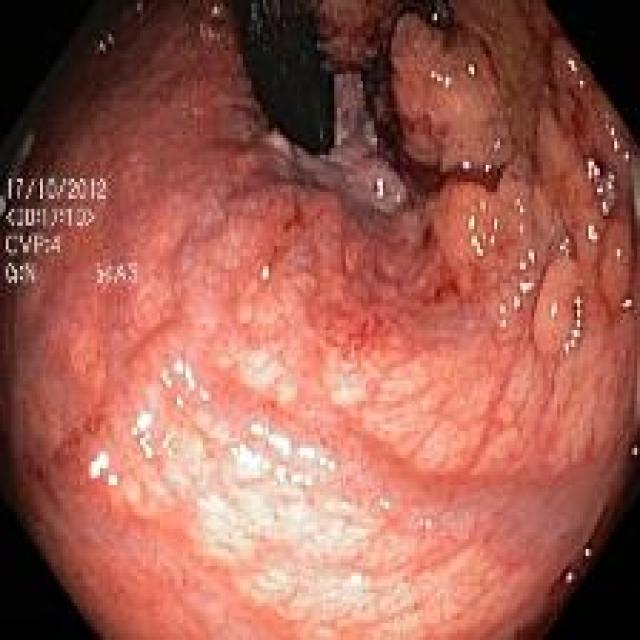Polyps: (532, 253, 580, 356), (600, 221, 632, 313)
